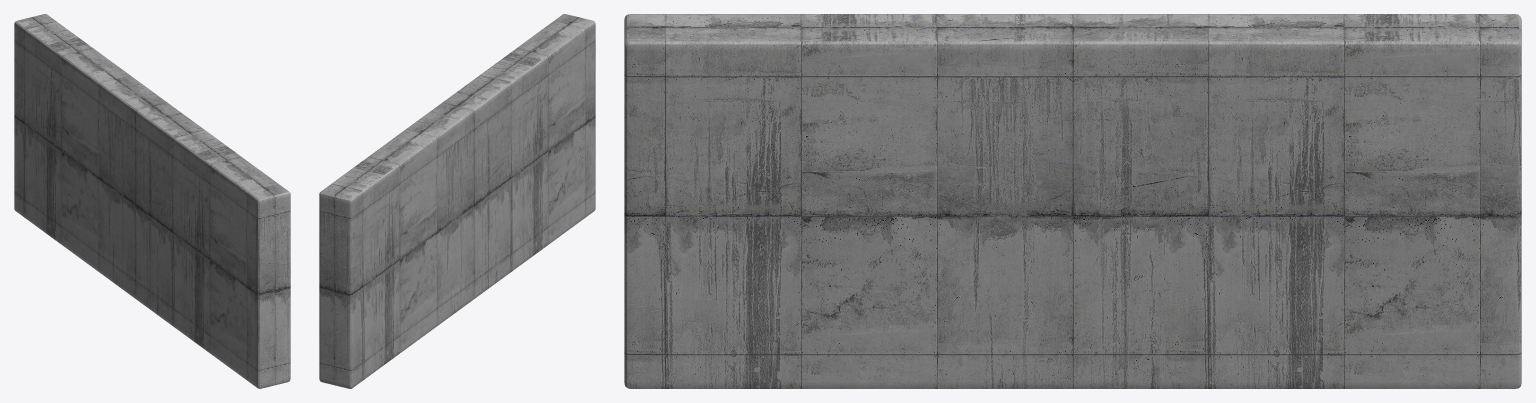
Rendered from SM_Wall.fbx.
3 renders of one model, left to right at view 1: azimuth 30°, elevation 25°; view 2: azimuth 150°, elevation 25°; view 3: azimuth 270°, elevation 25°, orthographic. The views are drawn at different scales.
Visible parts, largest first — view 1: SM_Wall_LOD0; view 2: SM_Wall_LOD0; view 3: SM_Wall_LOD0.
Boxes of the visible parts, box(x1,y1,x2,y2) form: SM_Wall_LOD0: box(14, 14, 290, 388); SM_Wall_LOD0: box(319, 14, 595, 388); SM_Wall_LOD0: box(624, 14, 1521, 388).
Bounding box in the file's own units: 69.62 × 885 × 380.
1 material, 1 textured.
